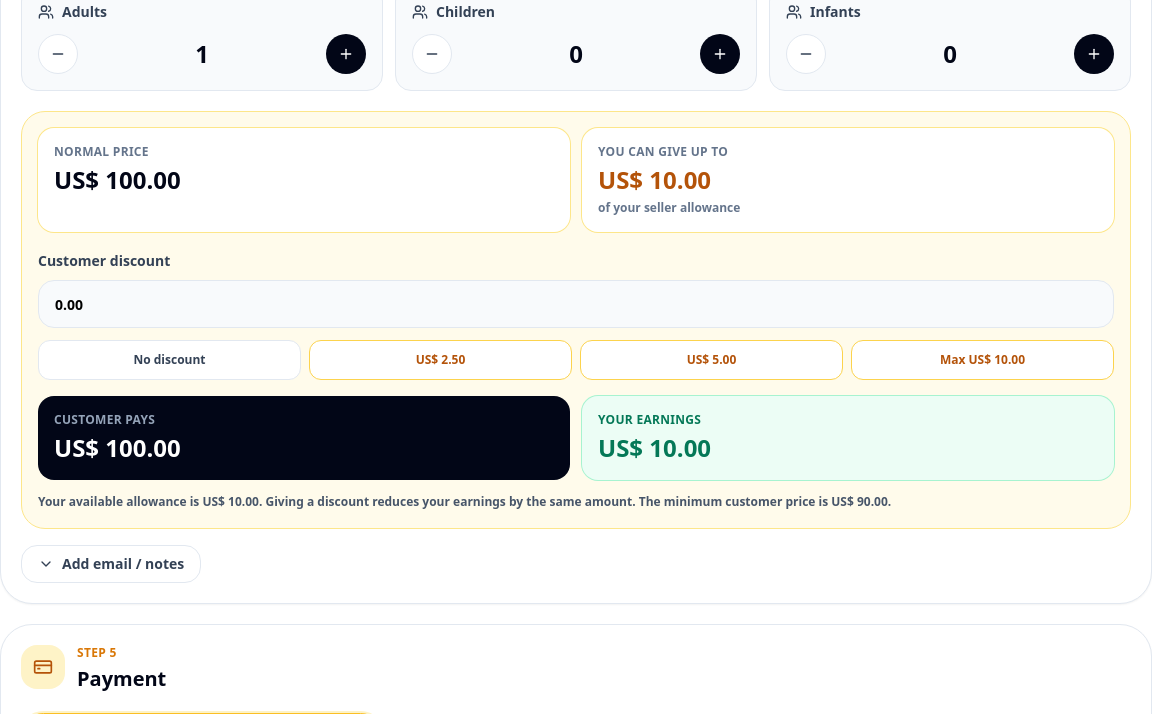
Test: TicketingSellerNewBookingPage simple seller discount UI › maximum quick button makes customer pay 90 and seller earn 0
(page scrolled)
Expected: the text "Normal price" is shown, [54,143,149,160]
Click the button "Max US$ 10.00": (982, 360) [851,340,1114,380]
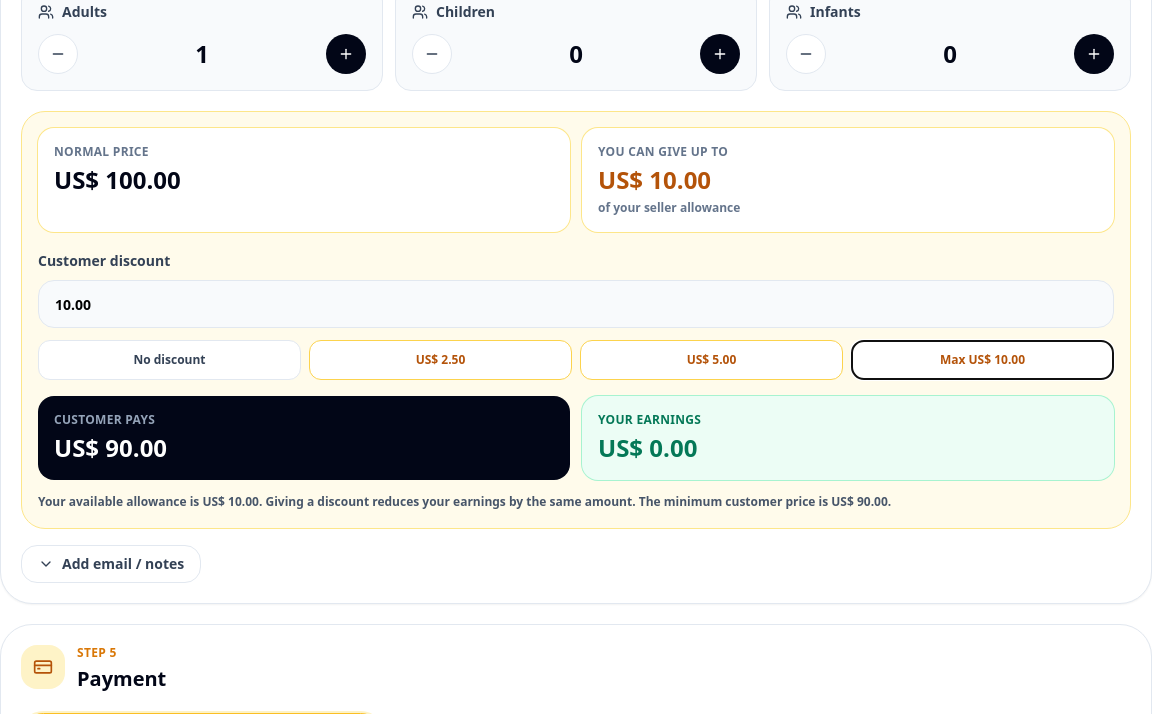
Result: the field labelled "Customer discount" holds "10.00" at [38,280,1114,328]
Result: the text "US$ 90.00" is shown at [54,431,167,464]
Result: the text "US$ 0.00" is shown at [598,431,697,464]
